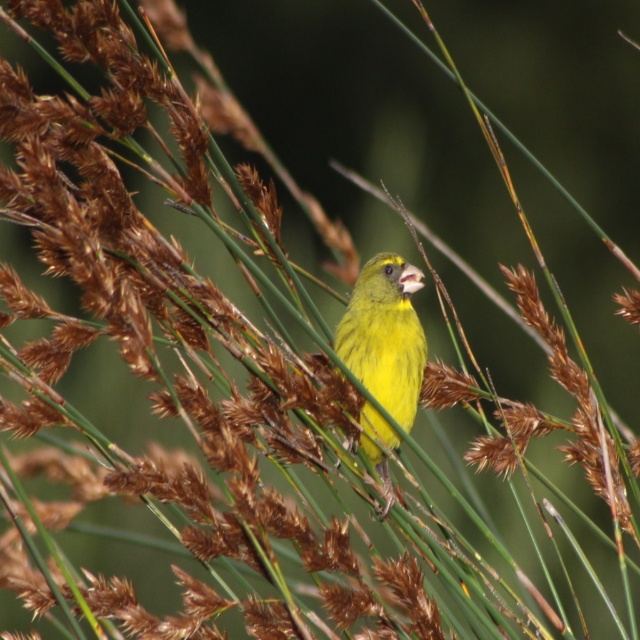Canary: (332, 250, 428, 523)
